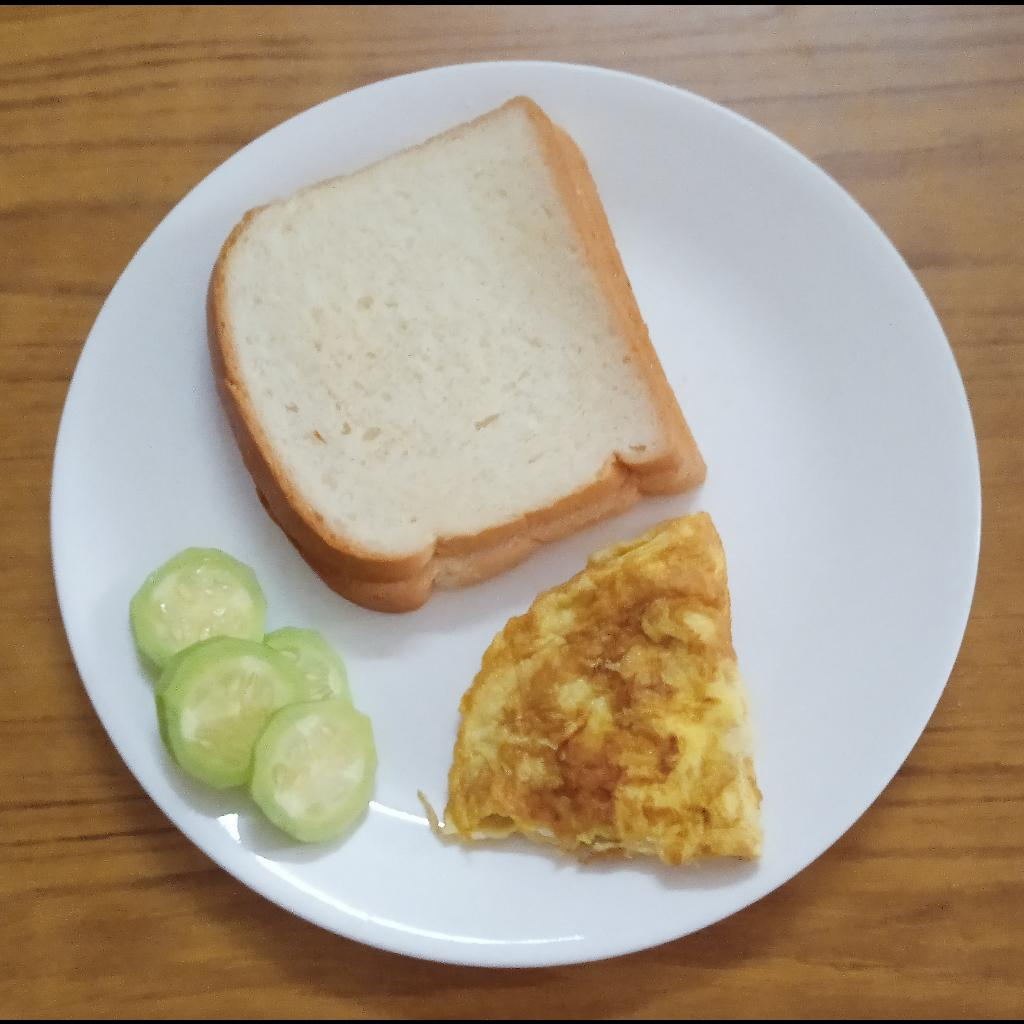bread: (201, 92, 710, 614)
cucumber: (126, 542, 380, 845)
egg-poached: (439, 510, 769, 864)
